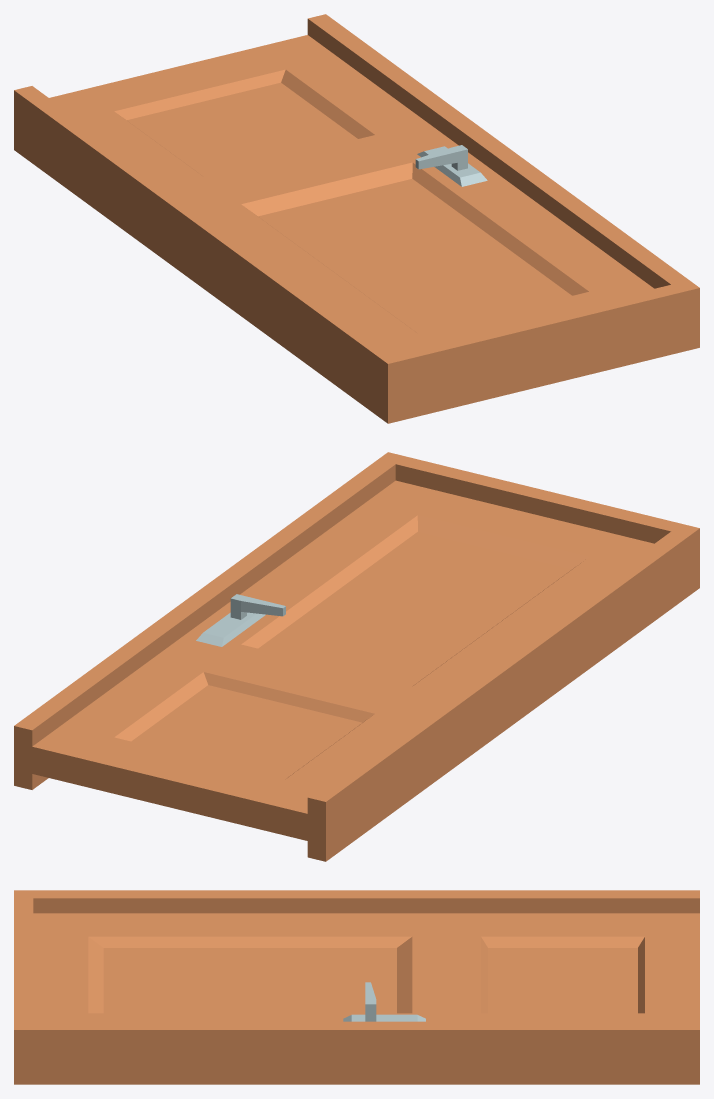
3 renders of one model, top to bottom at view 1: azimuth 30°, elevation 25°; view 2: azimuth 150°, elevation 25°; view 3: azimuth 270°, elevation 25°, orthographic. The views are drawn at different scales.
Parts seen in each view (by area): view 1: part_1, part_0, part_2; view 2: part_1, part_0, part_2; view 3: part_1, part_0, part_2.
Boxes of the visible parts, bbox=[...] form: part_1: bbox=[49, 35, 654, 351]; part_0: bbox=[14, 14, 699, 423]; part_2: bbox=[415, 145, 487, 186]; part_1: bbox=[32, 480, 653, 840]; part_0: bbox=[14, 452, 699, 861]; part_2: bbox=[196, 594, 285, 646]; part_1: bbox=[33, 913, 699, 1021]; part_0: bbox=[14, 890, 699, 1084]; part_2: bbox=[343, 982, 425, 1021].
Size of the model in its own units: 1.01 by 0.2359 by 2.1.
